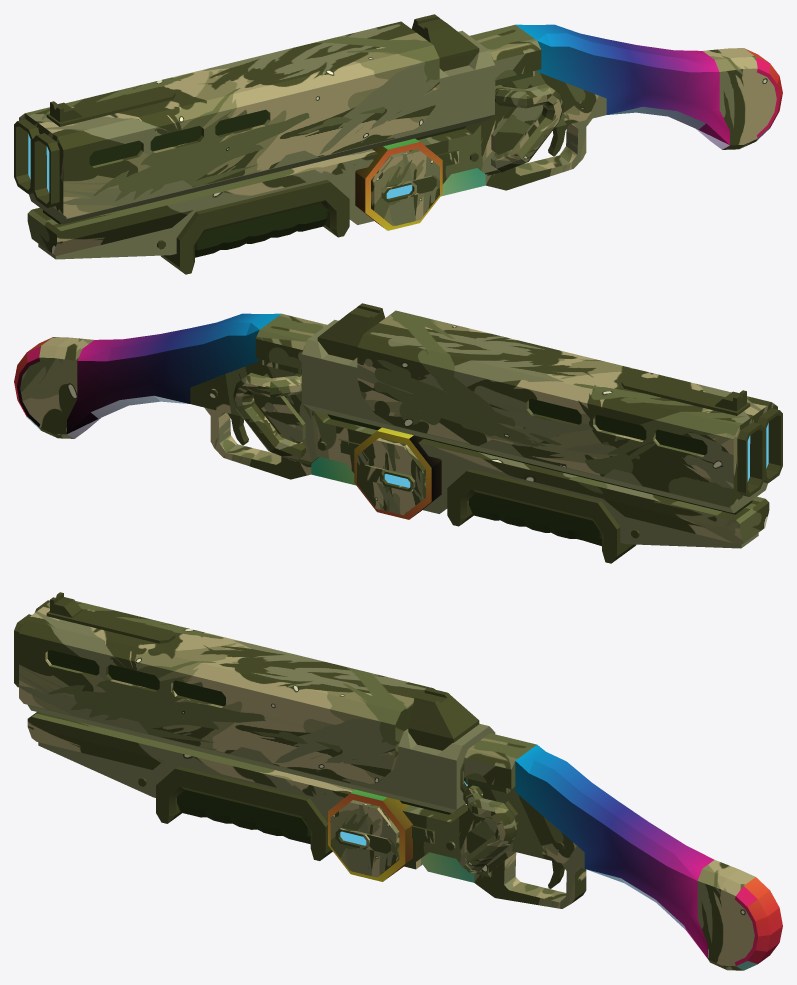
3 renders of one model, top to bottom at view 1: azimuth 30°, elevation 25°; view 2: azimuth 150°, elevation 25°; view 3: azimuth 330°, elevation 25°, orthographic.
Visible parts, largest first — view 1: SM_SG02_Barrel, SM_SG02A; view 2: SM_SG02_Barrel, SM_SG02A; view 3: SM_SG02_Barrel, SM_SG02A.
Part boxes in pixels (box(x1,y1,x2,y2)): SM_SG02_Barrel: box(14, 14, 495, 274); SM_SG02A: box(355, 24, 782, 230); SM_SG02_Barrel: box(301, 303, 782, 563); SM_SG02A: box(14, 313, 441, 519); SM_SG02_Barrel: box(14, 592, 495, 860); SM_SG02A: box(328, 733, 782, 970).
Bounding box in the file's own units: 50.84 × 13.34 × 6.7.
3 materials, 2 textured.
